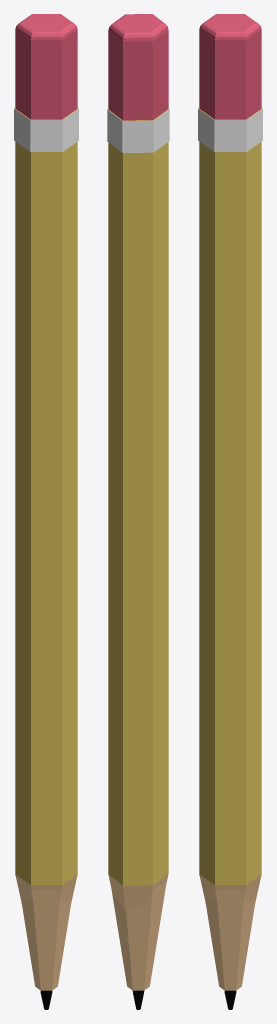
File: Pencil.fbx
3 views of the same model, side by side, from view 1: azimuth 90°, elevation 25°; view 2: azimuth 150°, elevation 25°; view 3: azimuth 270°, elevation 25° (orthographic).
Parts seen in each view (by area): view 1: Pencil; view 2: Pencil; view 3: Pencil.
Boxes of the visible parts, x1,y1,x2,y2 form: Pencil: (14, 14, 78, 1009); Pencil: (107, 14, 169, 1009); Pencil: (198, 14, 262, 1009).
Bounding box in the file's own units: 74.84 × 1525 × 90.63.
